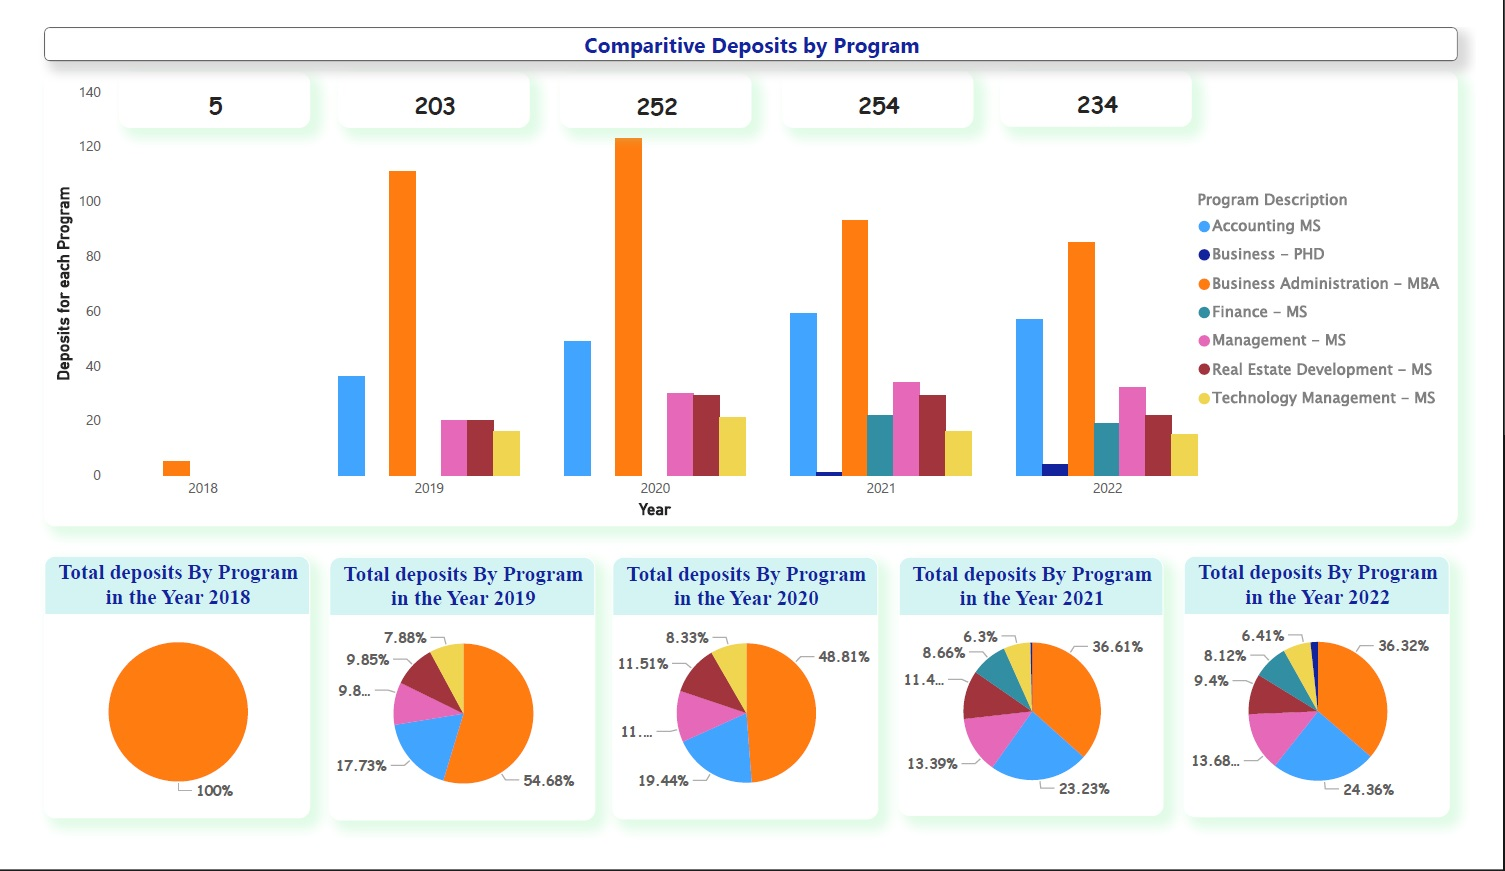

The dashboard page shown, as its layout file describes it:
{"tool":"powerbi","page":{"name":"Page 2","canvas":[1280,720],"ordinal":0},"visuals":[{"type":"clusteredColumnChart","title":"Comparitive Deposits by program","fields":{"Category":["Deposits_year.Year"],"Series":["Deposits_year.Program_Desc_Final"],"Y":["CountNonNull(Deposits_year.Program_Desc_Final)"]},"box":[15.1,39,1248.7,402.1],"z":0},{"type":"pieChart","title":"Total deposits By Program in the Year 2018","fields":{"Y":["CountNonNull(Deposits_year.Program_Desc_Final)"],"Category":["Deposits_year.Program_Desc_Final"]},"box":[15.1,466.7,235,232],"z":1000},{"type":"pieChart","title":"Total deposits By Program in the Year 2019","fields":{"Category":["Deposits_year.Program_Desc_Final"],"Y":["CountNonNull(Deposits_year.Program_Desc_Final)"]},"box":[267.5,468.5,234.7,232.9],"z":2000},{"type":"pieChart","title":"Total deposits By Program in the Year 2020","fields":{"Category":["Deposits_year.Program_Desc_Final"],"Y":["CountNonNull(Deposits_year.Program_Desc_Final)"]},"box":[517.2,468.5,234.7,231.1],"z":3000},{"type":"pieChart","title":"Total deposits By Program in the Year 2021","fields":{"Category":["Deposits_year.Program_Desc_Final"],"Y":["CountNonNull(Deposits_year.Program_Desc_Final)"]},"box":[769.6,467.6,234.7,229.4],"z":4000},{"type":"pieChart","title":"Total deposits By Program in the Year 2022","fields":{"Category":["Deposits_year.Program_Desc_Final"],"Y":["CountNonNull(Deposits_year.Program_Desc_Final)"]},"box":[1022,466.7,234.7,231.1],"z":5000},{"type":"card","title":"Total deposits By Program in the Year 2018","fields":{"Values":["CountNonNull(Deposits_year.Program_Desc_Final)"]},"box":[80.6,39.9,169.2,48.7],"z":6000},{"type":"card","title":"Total deposits By Program in the Year 2019","fields":{"Values":["CountNonNull(Deposits_year.Program_Desc_Final)"]},"box":[274.5,39.9,169.2,49.6],"z":7000},{"type":"card","title":"Total deposits By Program in the Year 2020","fields":{"Values":["CountNonNull(Deposits_year.Program_Desc_Final)"]},"box":[471.1,40.7,169.2,48.7],"z":8000},{"type":"card","title":"Total deposits By Program in the Year 2021","fields":{"Values":["CountNonNull(Deposits_year.Program_Desc_Final)"]},"box":[666.9,39,169.2,49.6],"z":9000},{"type":"card","title":"Total deposits By Program in the Year 2022","fields":{"Values":["CountNonNull(Deposits_year.Program_Desc_Final)"]},"box":[859.9,39,169.2,48.7],"z":10000},{"type":"textbox","title":"Comparitive Deposits by Program","box":[15,0,1249,30],"z":11000}]}

Visuals, with their boxes in screenshot pixels (x1, y1, x2, y2), scaled from the page's 1280x720 canvas onto the 1505x871 screenshot:
"Comparitive Deposits by program" clusteredColumnChart: {"left": 18, "top": 47, "right": 1486, "bottom": 534}
"Total deposits By Program in the Year 2018" pieChart: {"left": 18, "top": 565, "right": 294, "bottom": 845}
"Total deposits By Program in the Year 2019" pieChart: {"left": 315, "top": 567, "right": 590, "bottom": 848}
"Total deposits By Program in the Year 2020" pieChart: {"left": 608, "top": 567, "right": 884, "bottom": 846}
"Total deposits By Program in the Year 2021" pieChart: {"left": 905, "top": 566, "right": 1181, "bottom": 843}
"Total deposits By Program in the Year 2022" pieChart: {"left": 1202, "top": 565, "right": 1478, "bottom": 844}
"Total deposits By Program in the Year 2018" card: {"left": 95, "top": 48, "right": 294, "bottom": 107}
"Total deposits By Program in the Year 2019" card: {"left": 323, "top": 48, "right": 522, "bottom": 108}
"Total deposits By Program in the Year 2020" card: {"left": 554, "top": 49, "right": 753, "bottom": 108}
"Total deposits By Program in the Year 2021" card: {"left": 784, "top": 47, "right": 983, "bottom": 107}
"Total deposits By Program in the Year 2022" card: {"left": 1011, "top": 47, "right": 1210, "bottom": 106}
"Comparitive Deposits by Program" textbox: {"left": 18, "top": 0, "right": 1486, "bottom": 36}
